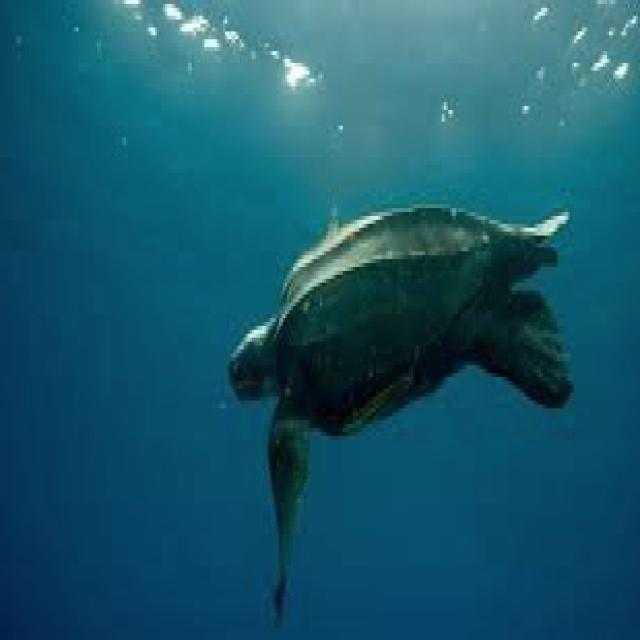turtle: (231, 204, 572, 616)
